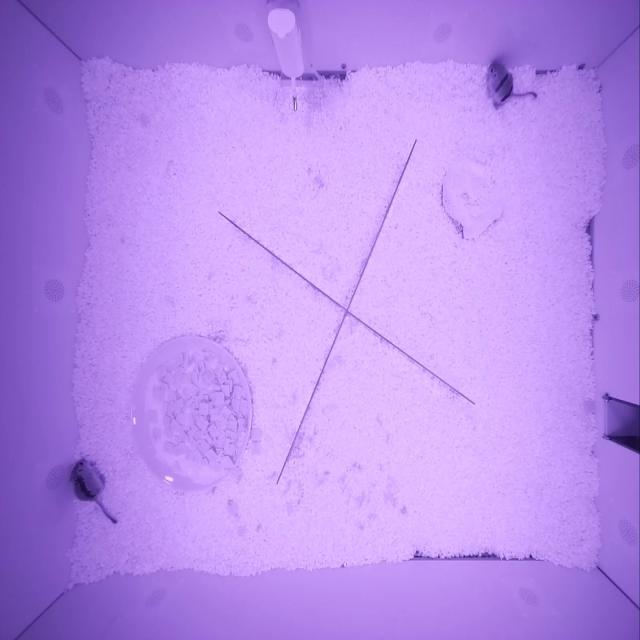pup_h_stripe: (486, 61, 514, 107)
pup_v_stripe: (69, 458, 106, 501)
